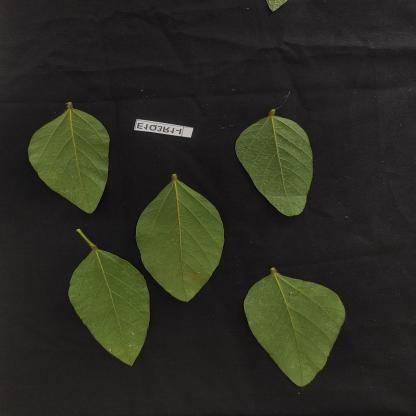label: (132, 108, 202, 145)
leaflets: (239, 261, 353, 393), (62, 249, 150, 381), (31, 87, 113, 226), (238, 106, 334, 222), (138, 172, 222, 304)
